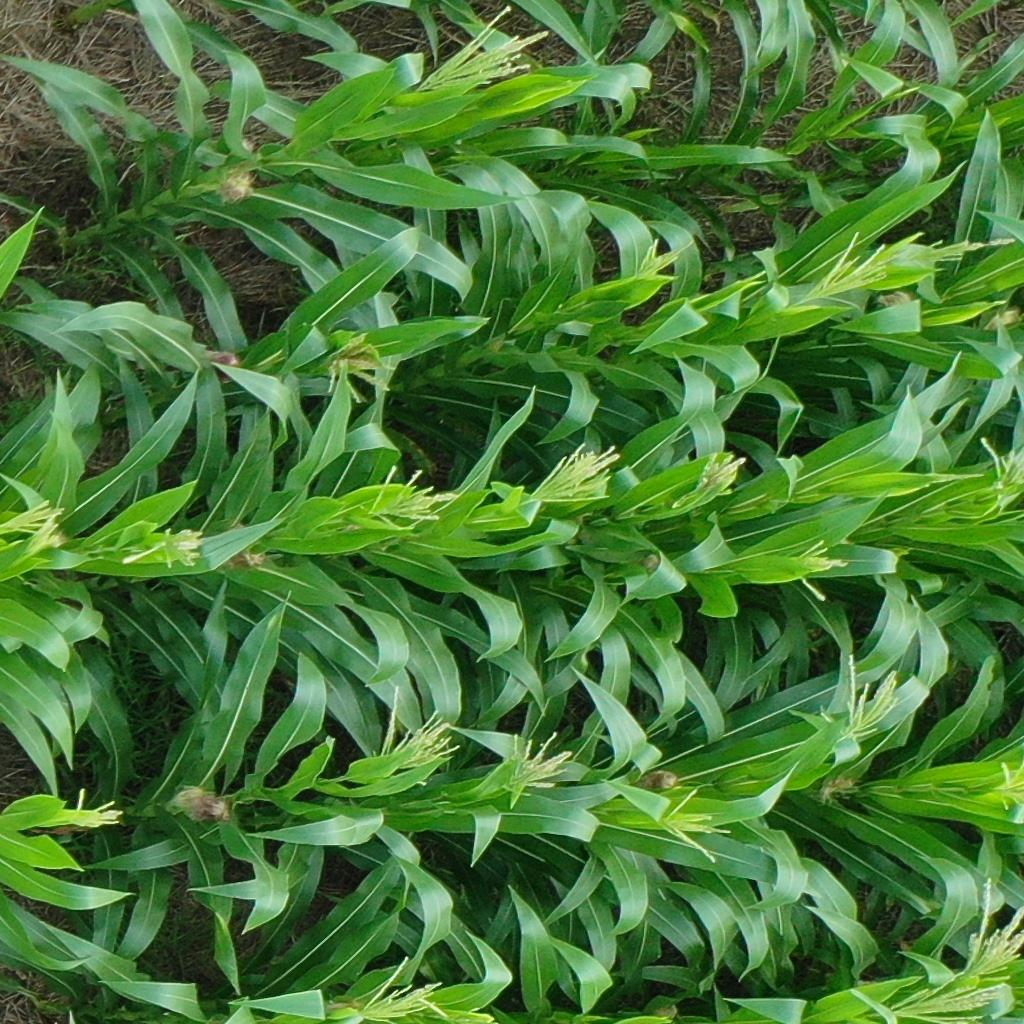Tassel: (881, 874, 1024, 1024), (418, 6, 554, 90), (377, 680, 462, 783), (357, 953, 464, 1022), (370, 460, 460, 535), (526, 440, 624, 506), (838, 648, 902, 742), (815, 227, 894, 303), (660, 785, 731, 864), (323, 336, 396, 408), (1, 495, 70, 570), (506, 733, 576, 800), (909, 230, 1017, 267), (120, 524, 202, 572), (977, 435, 1024, 511), (792, 539, 846, 602), (632, 238, 699, 288), (694, 445, 746, 499), (70, 789, 127, 833), (998, 759, 1024, 816)
